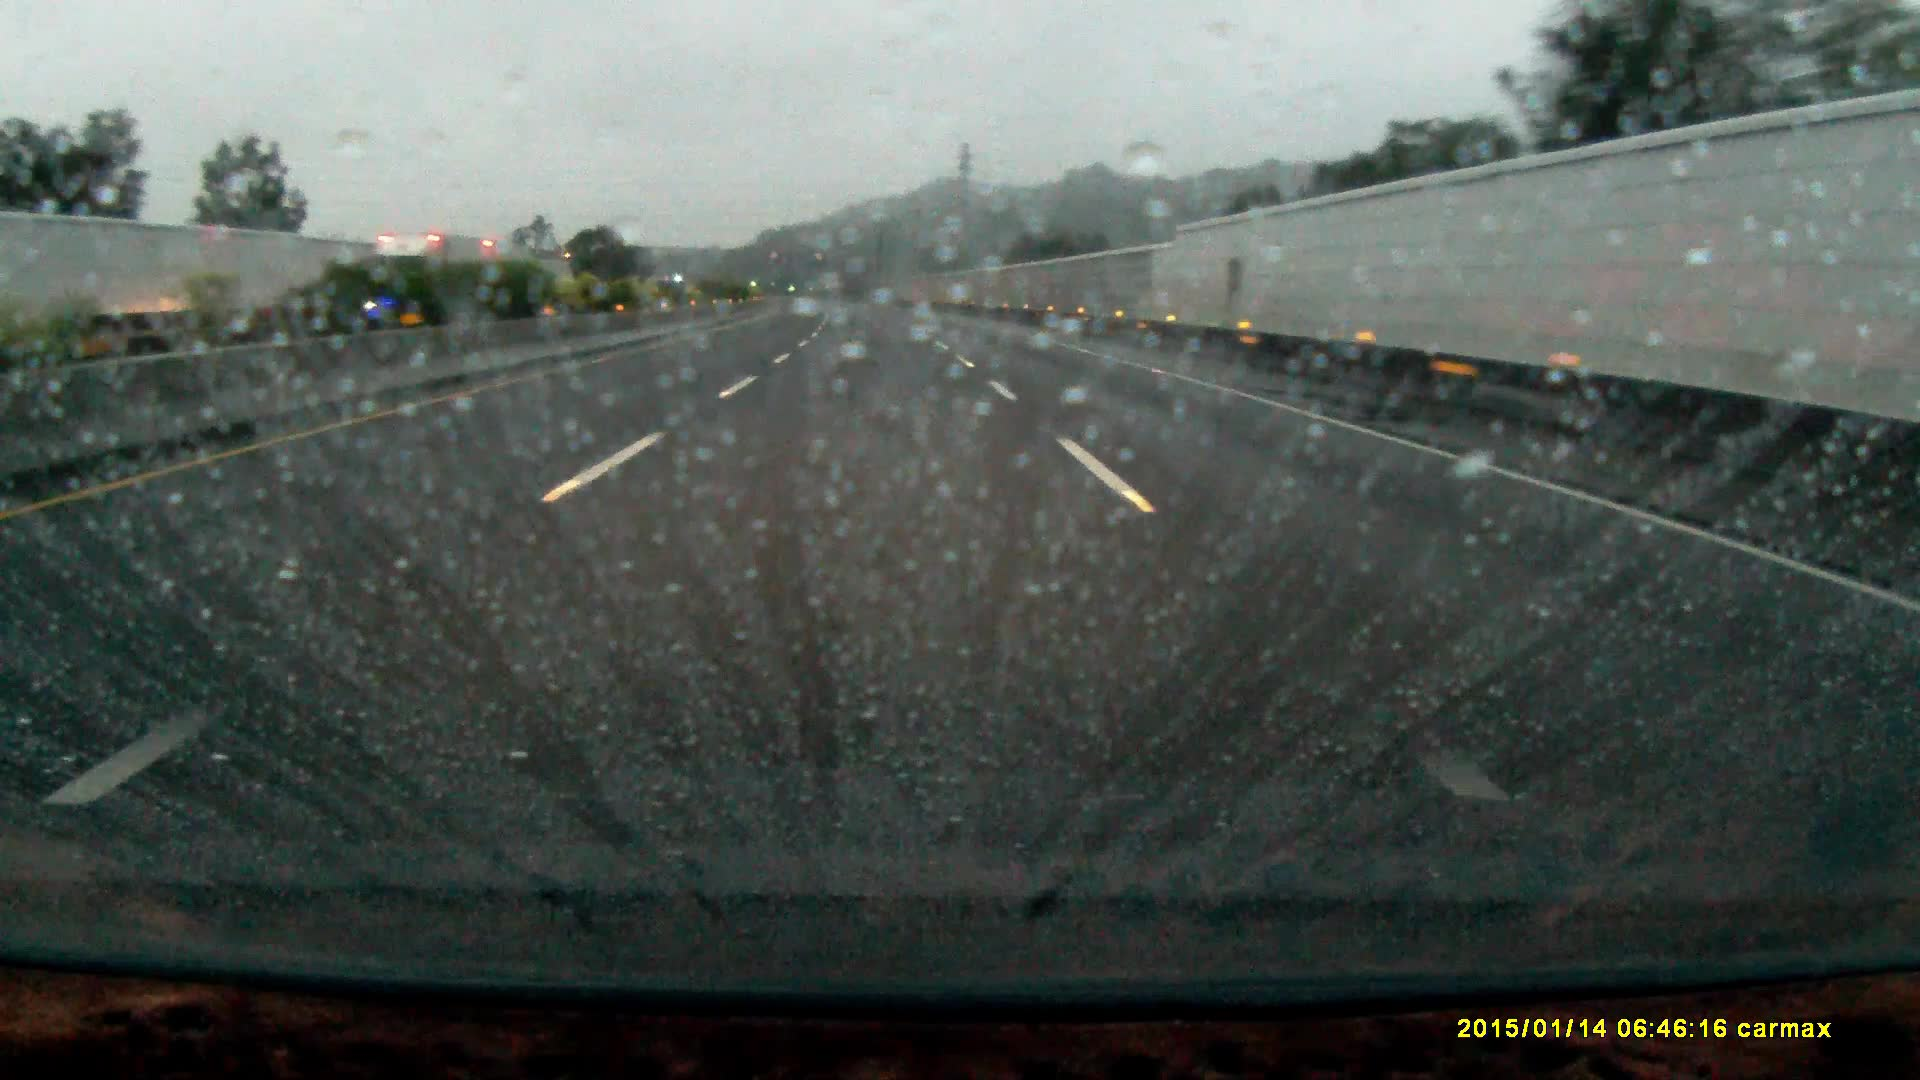vehicle: (360, 233, 520, 322)
